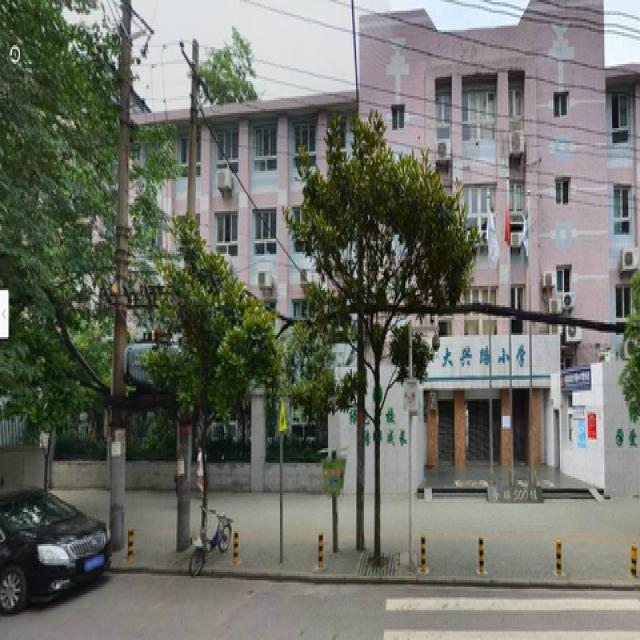magn: (165, 226, 267, 544)
